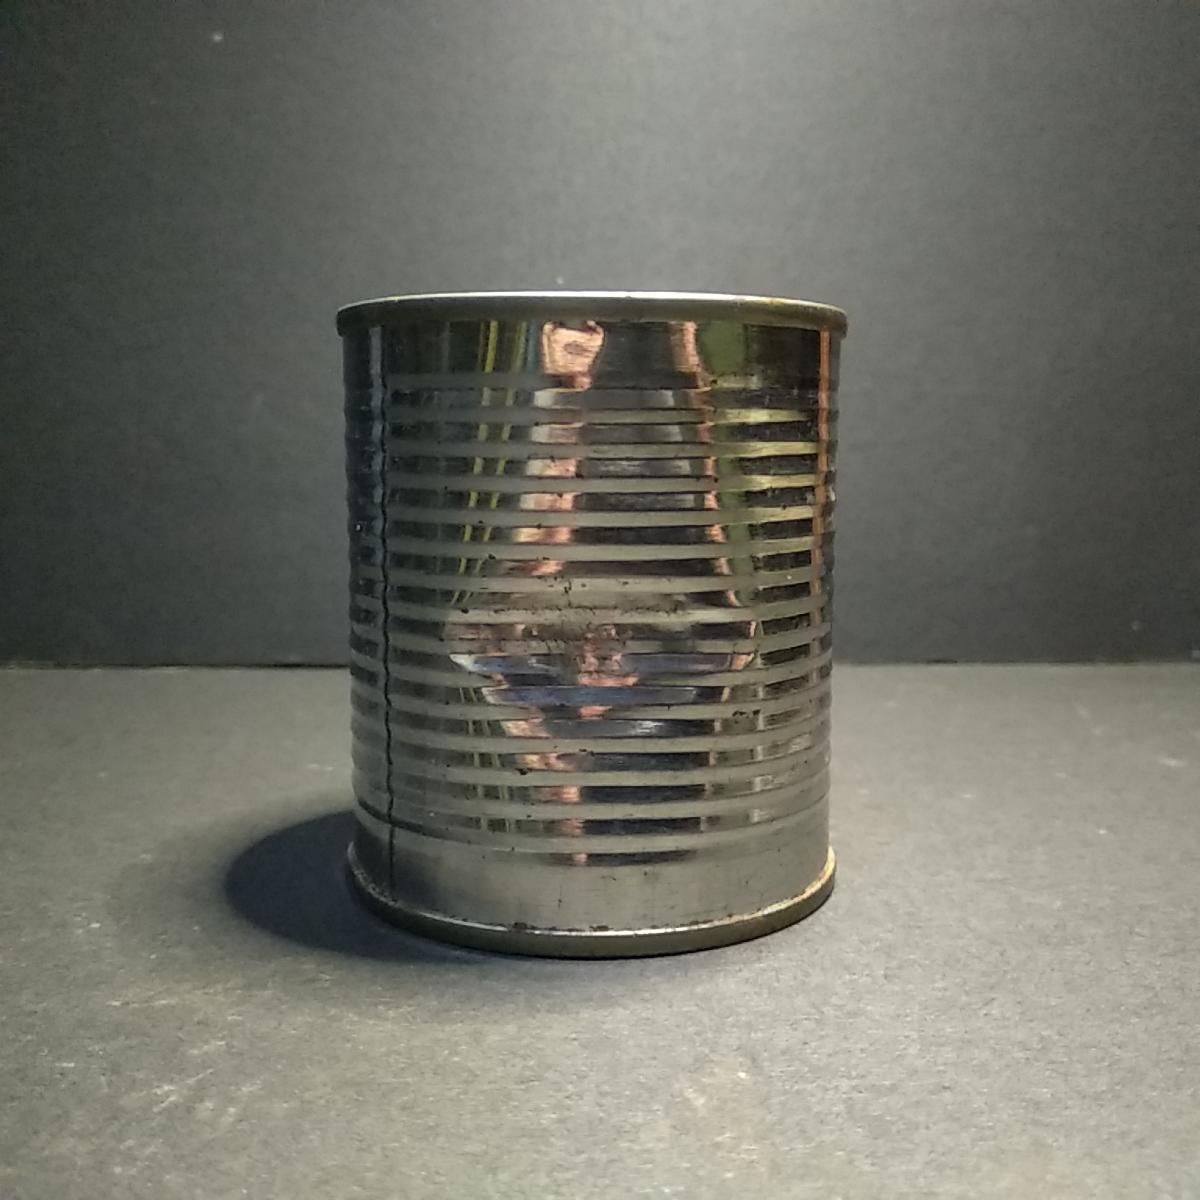Dented: (320, 273, 848, 962)
